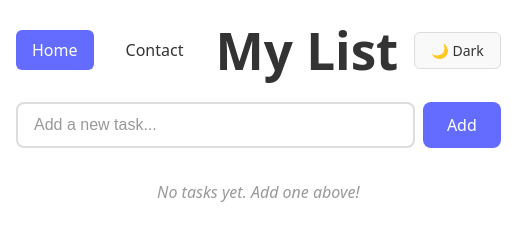
Test: App › deletes a todo
The width and height of the screenshot is (519, 227).
Type "Delete me" into the field with placeholder "Add a new task..." at (215, 125), box [16,102,415,148]
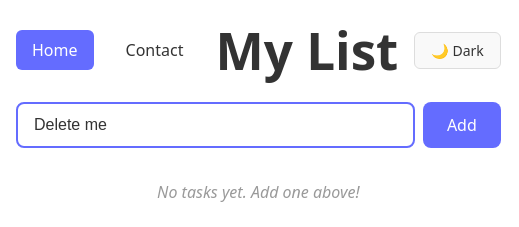
Click the button "Add" at (462, 125), box [423,102,501,148]
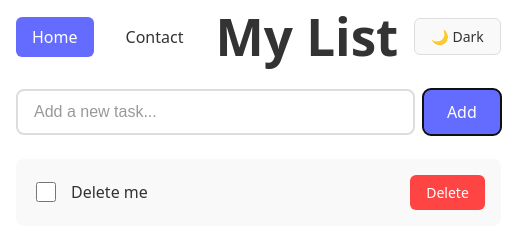
Expected: the text "Delete me" is shown, [71,181,148,203]
Click the button "Delete" at (448, 192), box [410,175,485,210]
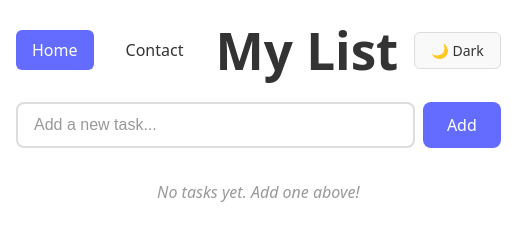
Expected: the text "Delete me" is gone
Expected: the text "No tasks yet. Add one above!" is shown, [157,181,360,203]
